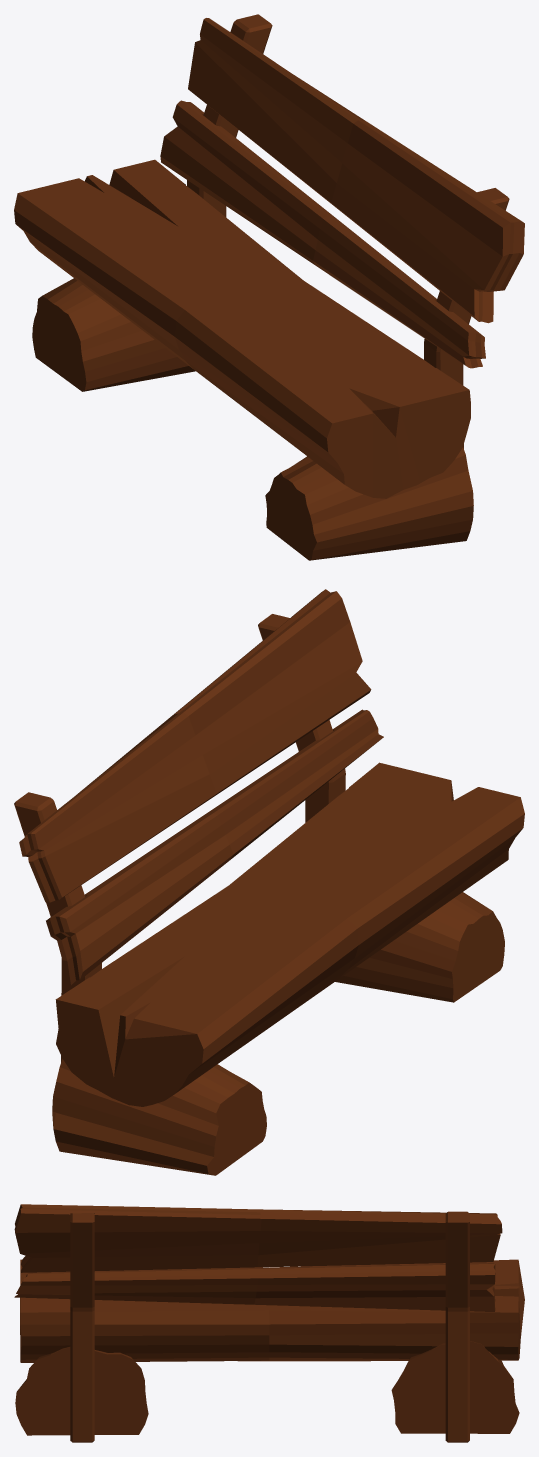
Rendered from Log_Bench (1).fbx.
3 renders of one model, top to bottom at view 1: azimuth 30°, elevation 25°; view 2: azimuth 150°, elevation 25°; view 3: azimuth 270°, elevation 25°, orthographic. The views are drawn at different scales.
Visible parts, largest first — view 1: Log Bench, Back, Logstand, Stand; view 2: Log Bench, Back, Logstand, Stand; view 3: Back, Log Bench, Logstand, Stand.
Boxes of the visible parts, x1,y1,x2,y2 form: Log Bench: [14, 159, 470, 498]; Back: [160, 18, 524, 368]; Logstand: [32, 278, 473, 560]; Stand: [187, 14, 509, 448]; Log Bench: [55, 762, 524, 1106]; Back: [19, 589, 383, 984]; Logstand: [52, 892, 504, 1175]; Stand: [14, 614, 345, 1062]; Back: [14, 1204, 502, 1311]; Log Bench: [20, 1259, 524, 1362]; Logstand: [15, 1341, 519, 1435]; Stand: [70, 1211, 469, 1442].
Size of the model in its own units: 307 by 425 by 797.
